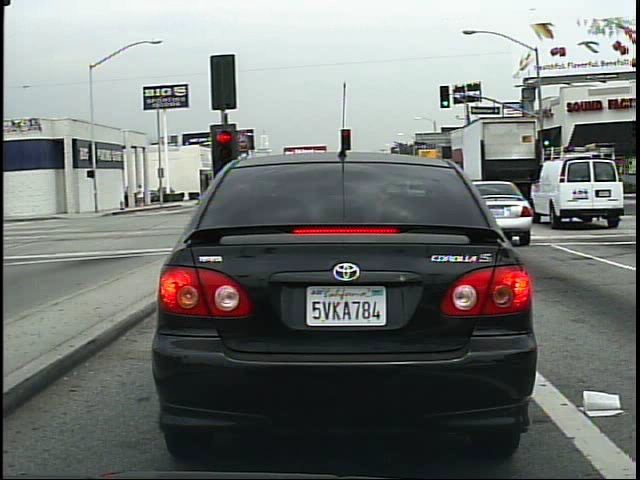person: (517, 169, 531, 202), (133, 182, 146, 211)
